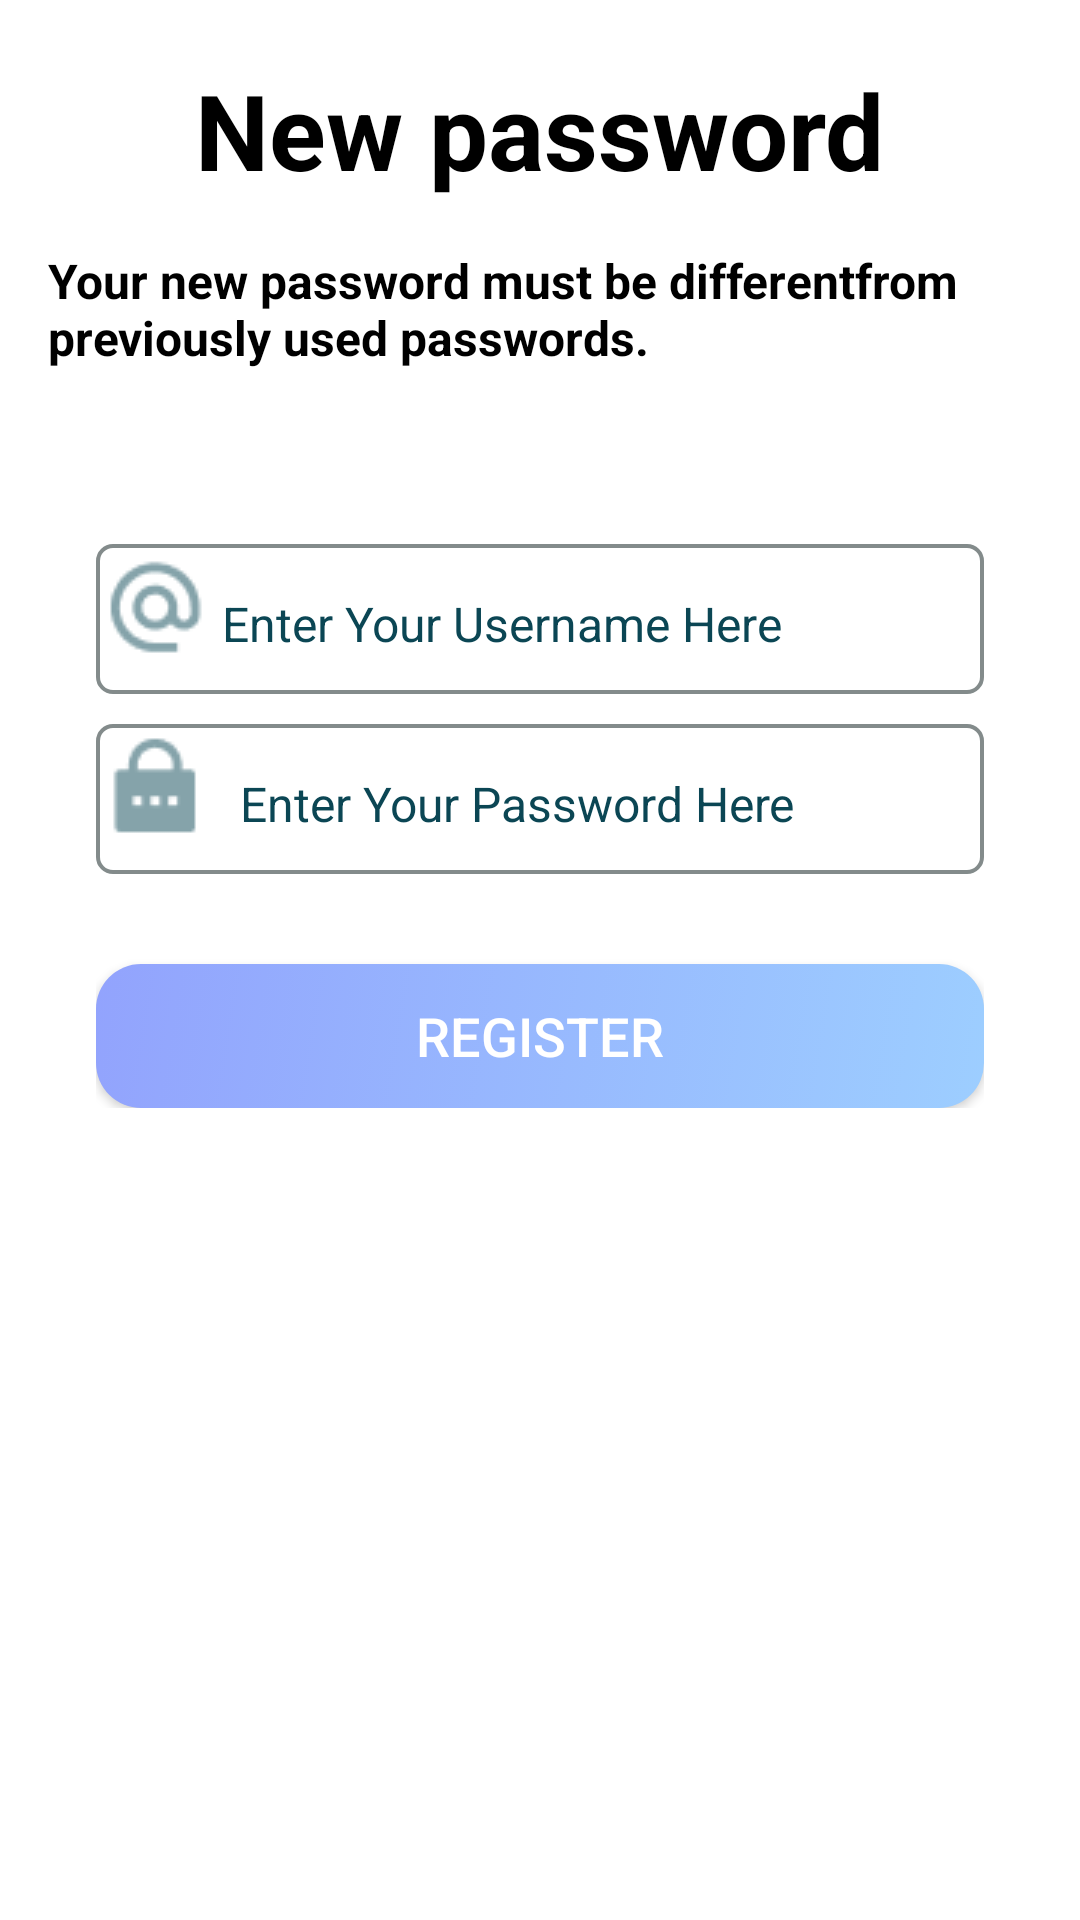

Icon bounding boxes for this 1080px×1920px phone screenshot, format (x1, y1, x2, y2):
email: (110, 561, 201, 653)
